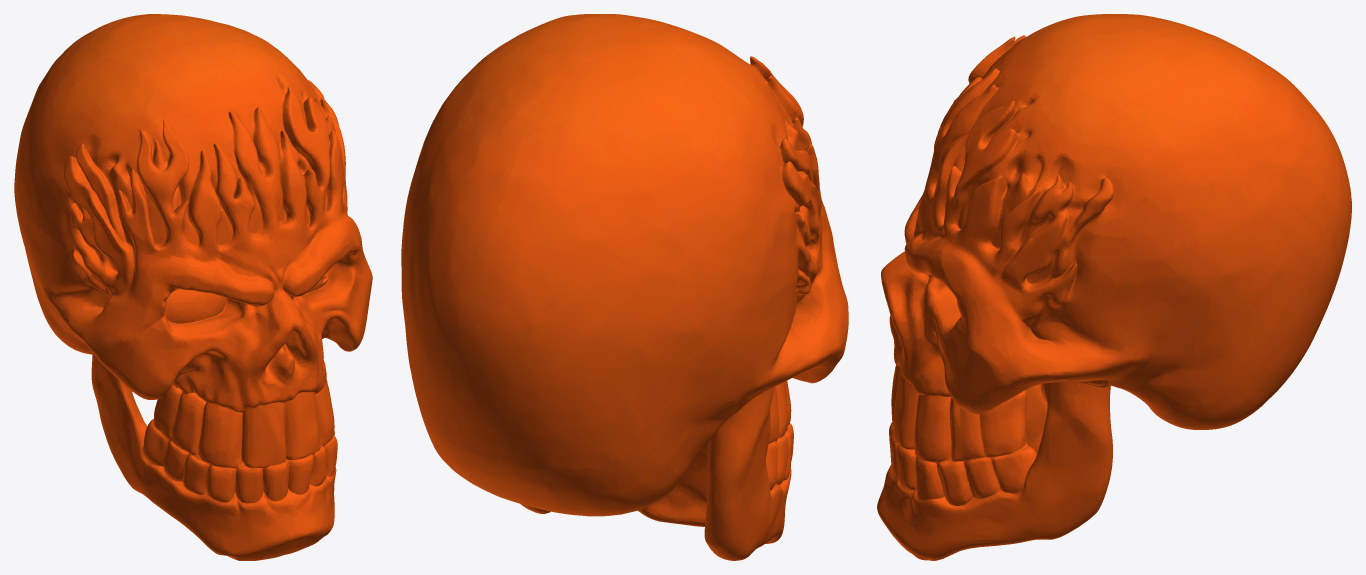
File: skull.glb
3 views of the same model, side by side, from view 1: azimuth 30°, elevation 25°; view 2: azimuth 150°, elevation 25°; view 3: azimuth 270°, elevation 25° (orthographic). The views are drawn at different scales.
Parts seen in each view (by area): view 1: Mesh_0; view 2: Mesh_0; view 3: Mesh_0.
Boxes of the visible parts, x1,y1,x2,y2 form: Mesh_0: (14, 14, 372, 560); Mesh_0: (401, 14, 848, 560); Mesh_0: (877, 14, 1351, 560).
Bounding box in the file's own units: 1.19 × 1.86 × 1.59.
Materials: 1 (1 with a texture image).
